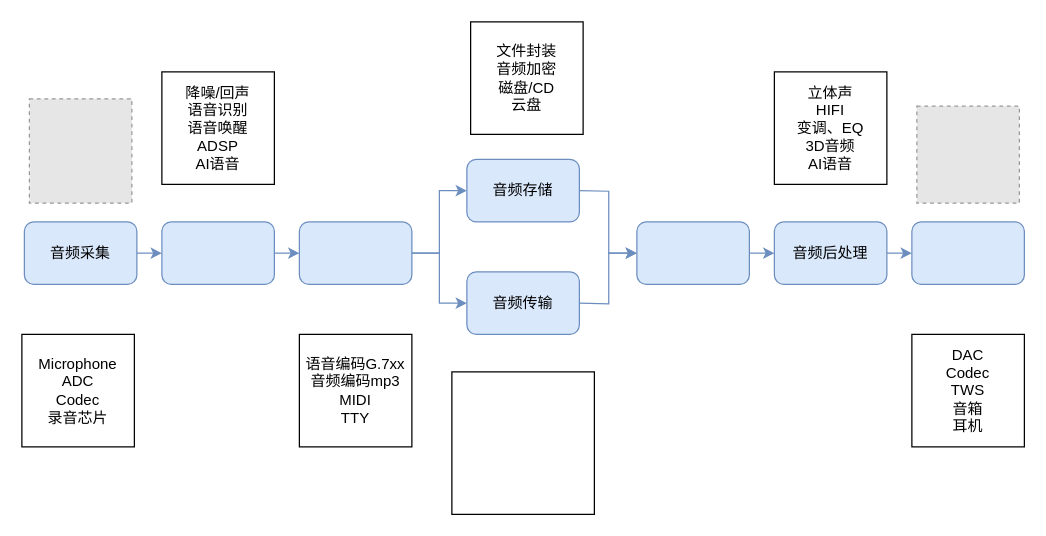
This 1046x536 diagram has some shape labels left out. Grey dashed boxes stand in for pictures. Each missing label, with the box of its shape:
BT Wireless aptX L2DAC 流媒体传输 点播 长音频分发: (451, 371, 594, 514)
音频前处理: (161, 221, 274, 284)
音频播放: (911, 221, 1024, 284)
音频编码: (298, 221, 412, 284)
音频解码: (636, 221, 749, 284)
